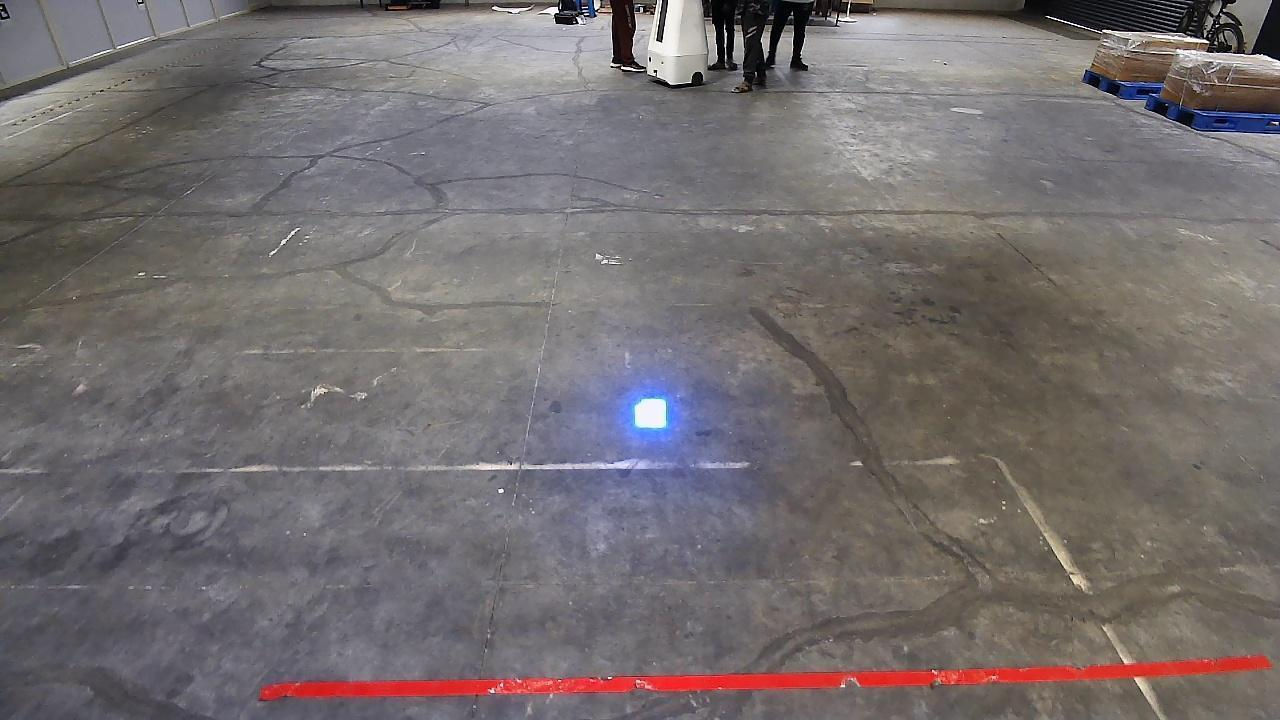red_line: (259, 657, 1273, 698)
